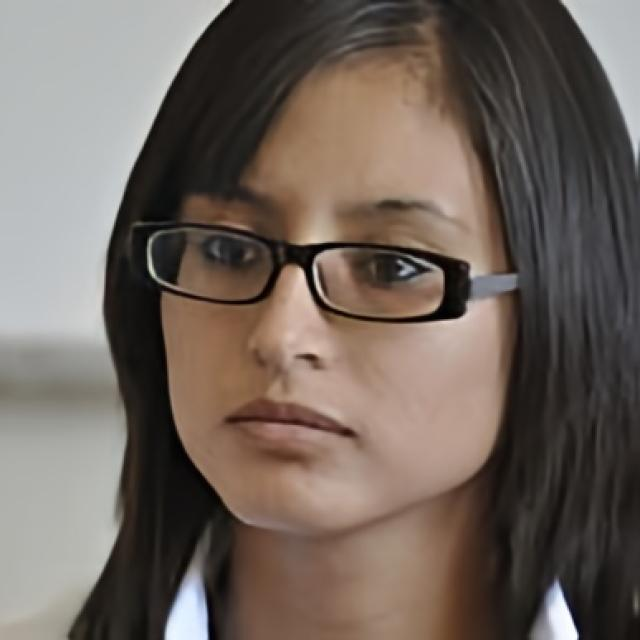neutral: (158, 38, 516, 538)
